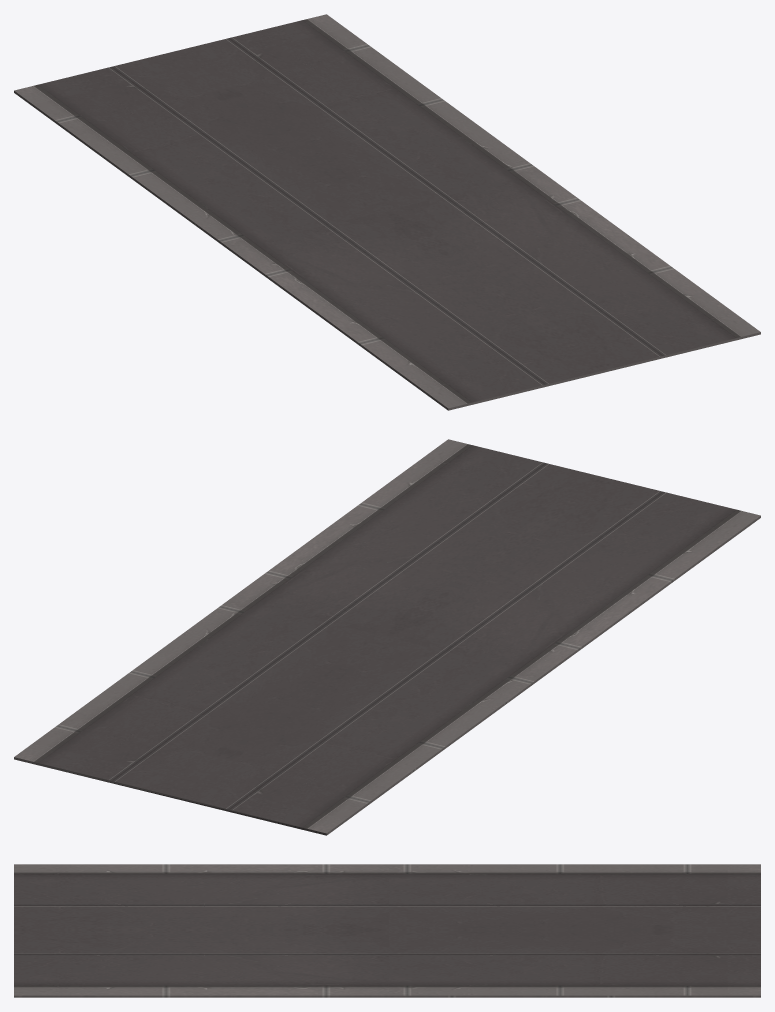
The model's file is PK_model_road_02.FBX.
3 views of the same model, one above another, from view 1: azimuth 30°, elevation 25°; view 2: azimuth 150°, elevation 25°; view 3: azimuth 270°, elevation 25° (orthographic). The views are drawn at different scales.
Parts seen in each view (by area): view 1: PK_model_road_01; view 2: PK_model_road_01; view 3: PK_model_road_01.
Part boxes in pixels (<box>): PK_model_road_01: <box>14,14,760,410</box>; PK_model_road_01: <box>14,439,760,835</box>; PK_model_road_01: <box>14,864,760,997</box>.
Bounding box in the file's own units: 604 × 4.23 × 1454.
Materials: 1 (1 with a texture image).
